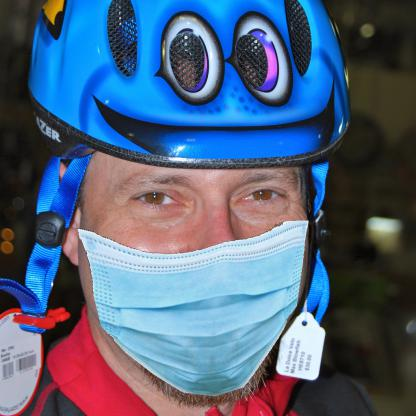Correctly_Masked: (80, 167, 309, 393)
